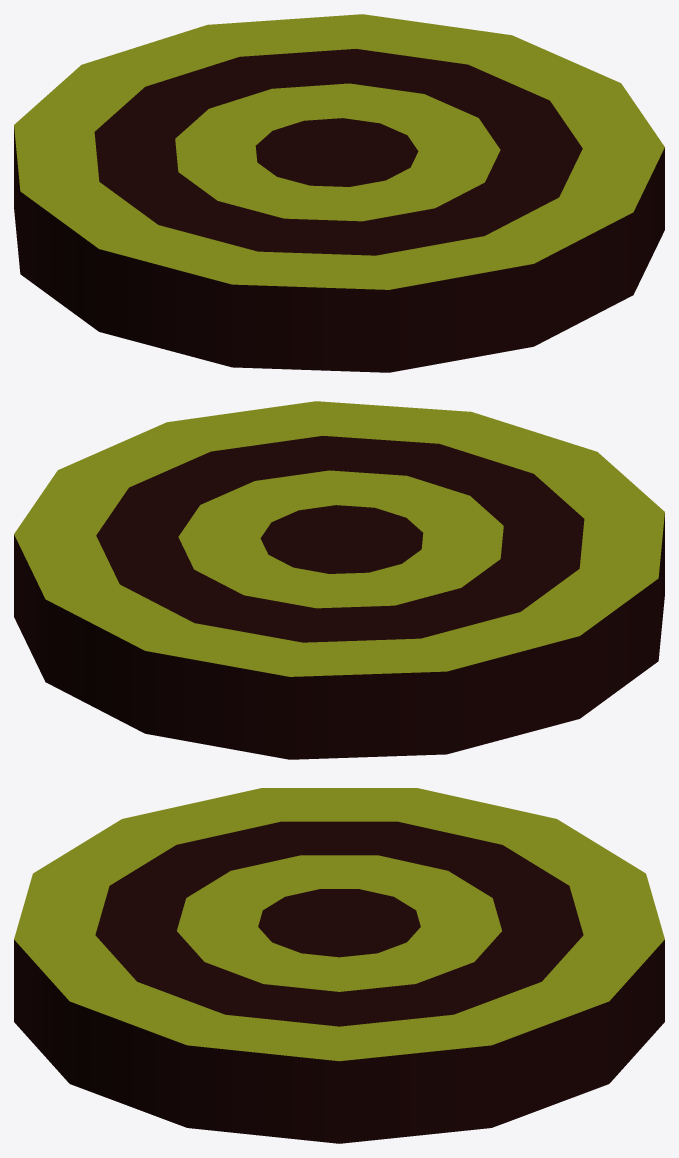
File: Use_bulleye.FBX
3 renders of one model, top to bottom at view 1: azimuth 30°, elevation 25°; view 2: azimuth 150°, elevation 25°; view 3: azimuth 270°, elevation 25°, orthographic.
Visible parts, largest first — view 1: Cylinder001; view 2: Cylinder001; view 3: Cylinder001.
Part boxes in pixels (x1,y1,x2,y2): Cylinder001: [14, 14, 664, 372]; Cylinder001: [14, 401, 664, 759]; Cylinder001: [14, 788, 664, 1143].
Size of the model in its own units: 70.92 by 10 by 71.45.
